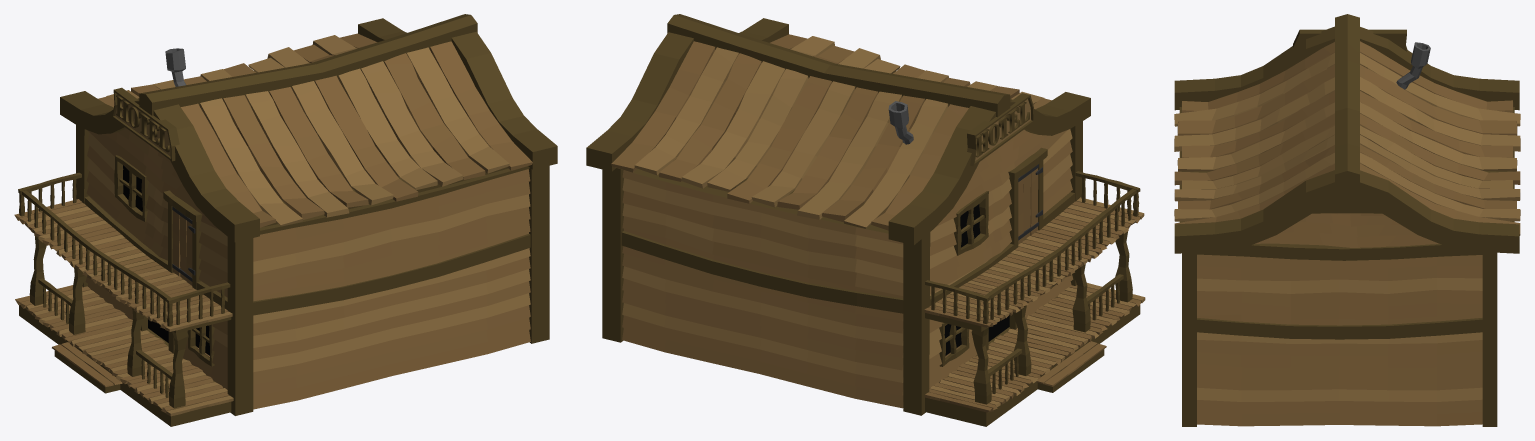
File: BuildingHotel.fbx
The picture shows the model from 3 angles, left to right: view 1: azimuth 30°, elevation 25°; view 2: azimuth 150°, elevation 25°; view 3: azimuth 270°, elevation 25°; orthographic projection. The views are drawn at different scales.
Visible parts, largest first — view 1: Cube.003; view 2: Cube.003; view 3: Cube.003.
Boxes of the visible parts, <box> form: Cube.003: <box>14,14,557,426</box>; Cube.003: <box>586,14,1145,426</box>; Cube.003: <box>1174,14,1520,426</box>.
Size of the model in its own units: 1205 by 768 by 923.
